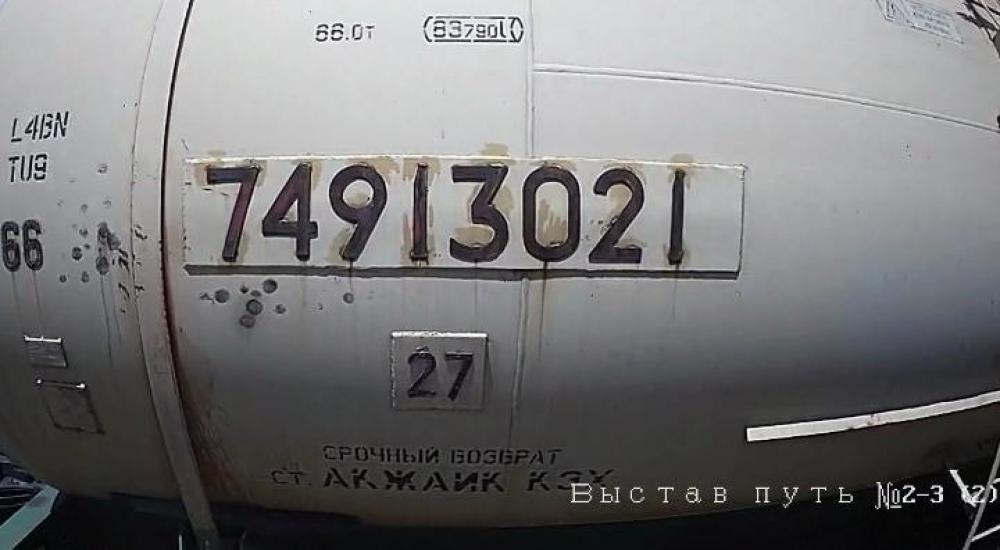Wagon-number: (202, 158, 695, 276)
